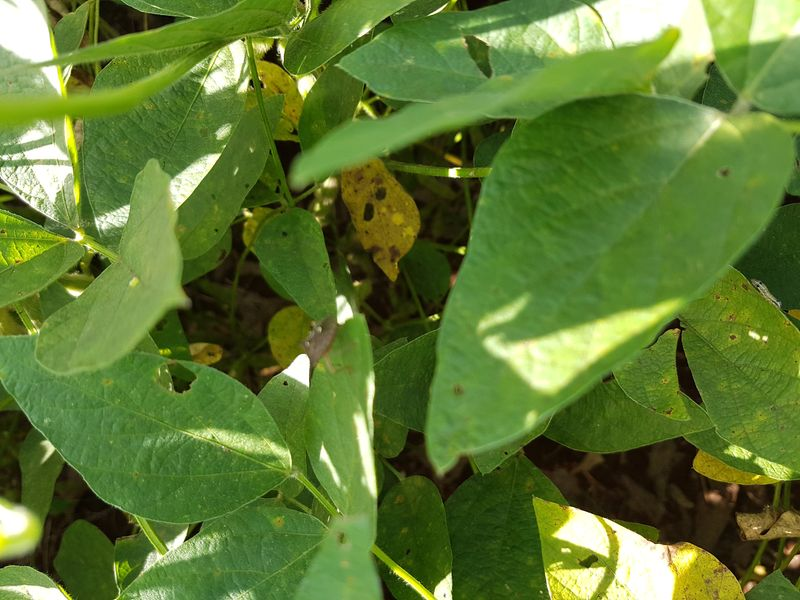Euschistus_heros_adulto: (288, 309, 344, 372)
